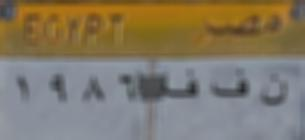1: (15, 71, 32, 110)
6: (115, 70, 139, 104)
8: (82, 72, 106, 114)
9: (46, 69, 69, 108)
faa: (207, 64, 250, 106), (157, 65, 199, 106)
noon: (258, 72, 290, 115)
